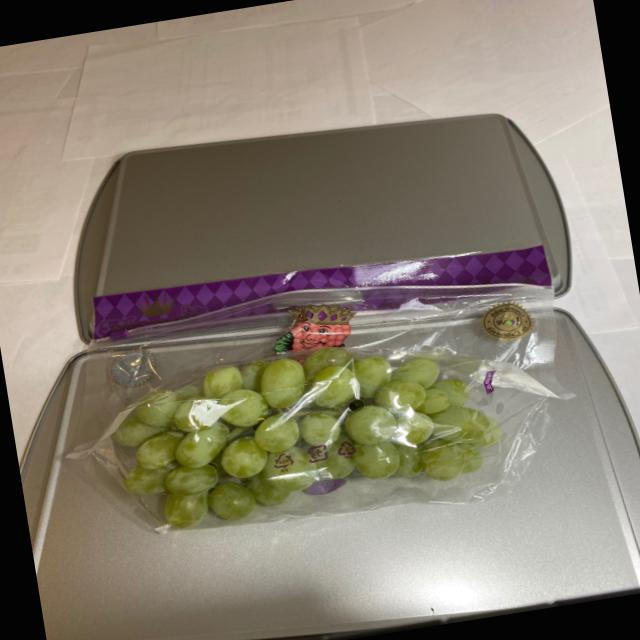grapes: (94, 325, 538, 540)
